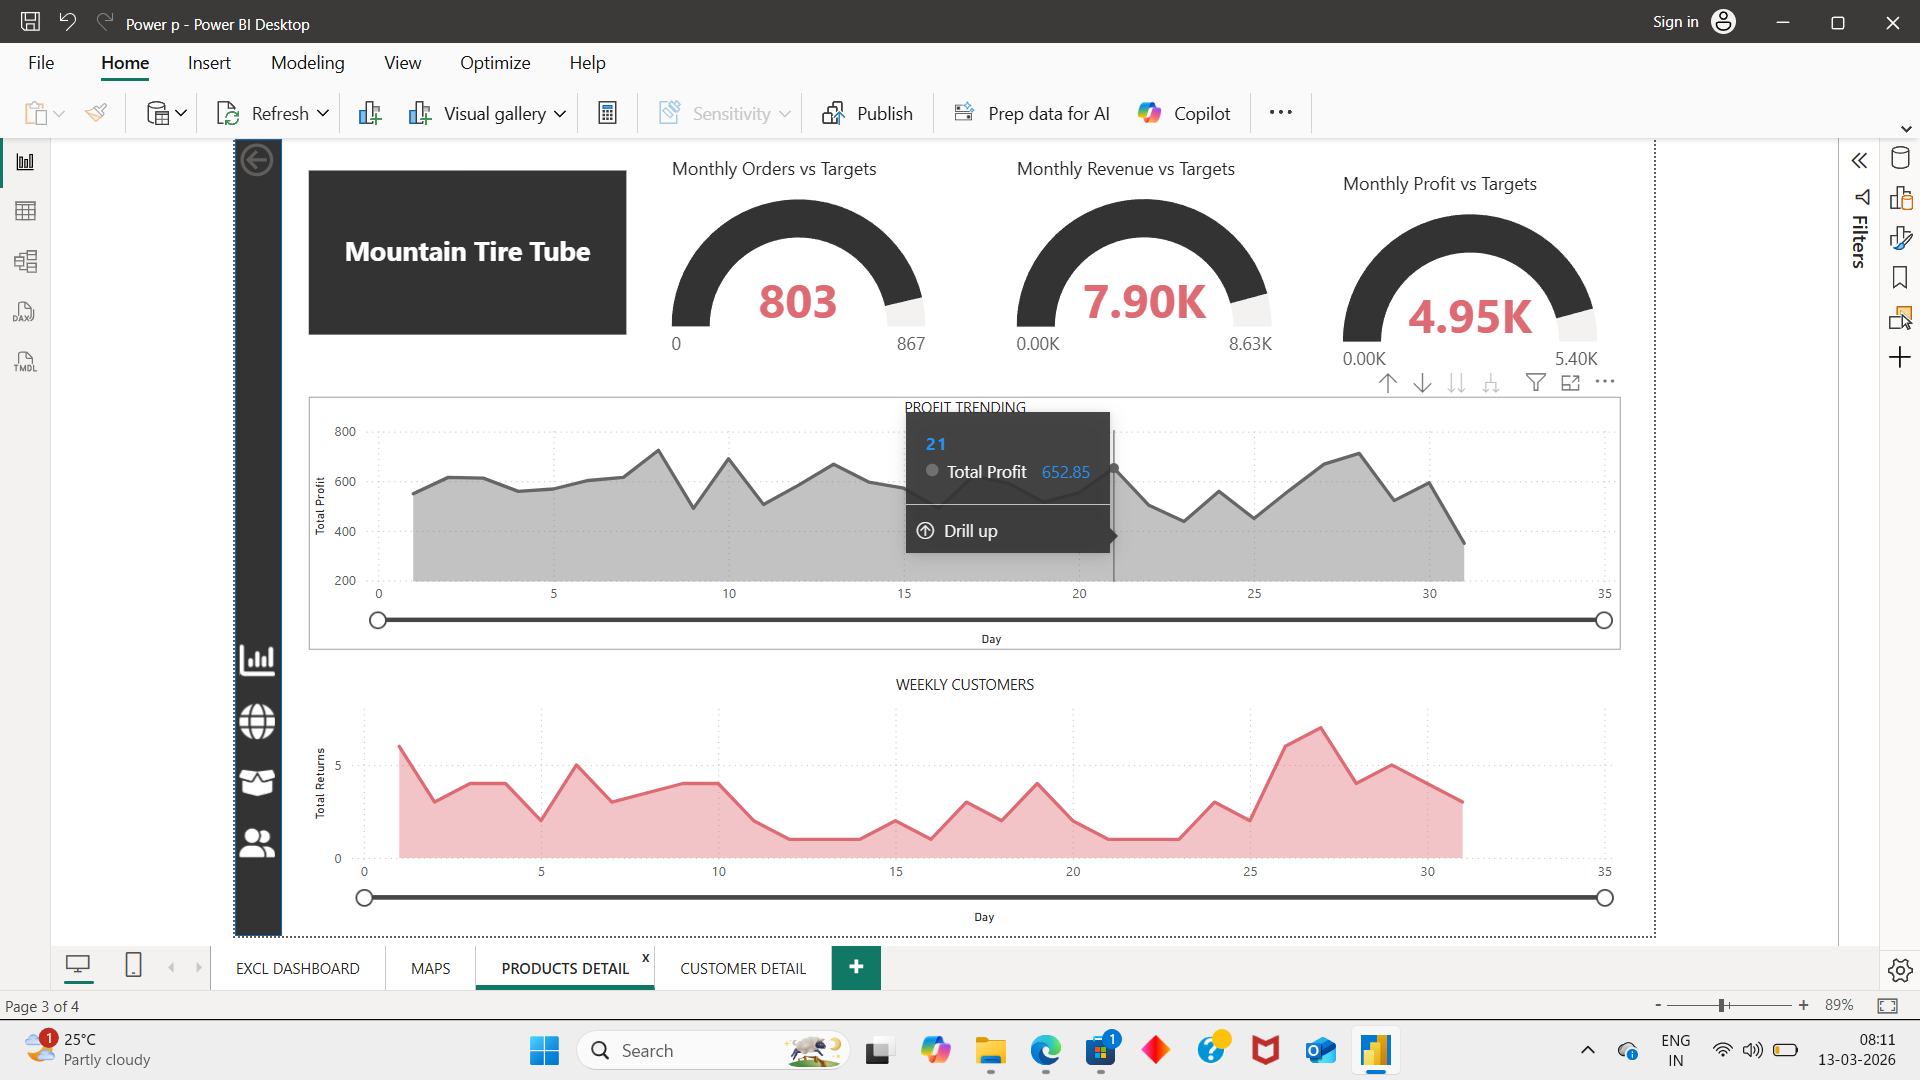

Layout of this report page (visuals, bound fields, positions):
{"tool":"powerbi","page":{"name":"PRODUCTS DETAIL ","canvas":[1280,720],"ordinal":2},"visuals":[{"type":"shape","box":[0,1.2,42.5,718.8],"z":0},{"type":"gauge","title":"Monthly Orders vs Targets","fields":{"MaxValue":["Measure Table.Order Target"],"Y":["Measure Table.Total Orders"]},"box":[388.9,15.8,238.9,204],"z":1000},{"type":"gauge","title":"Monthly Revenue vs Targets","fields":{"MaxValue":["Measure Table.Revenue Target"],"Y":["Measure Table.Total Revenue"]},"box":[699.9,15.8,240.1,204],"z":2000},{"type":"gauge","title":"Monthly Profit vs Targets","fields":{"MaxValue":["Measure Table.Profit Target"],"Y":["Measure Table.Total Profit"]},"box":[994.2,29.3,239.7,204.2],"z":3000},{"type":"areaChart","title":"PROFIT TRENDING","fields":{"Category":["Calendar Lookup.Date.Variation.Date Hierarchy.Year","Calendar Lookup.Date.Variation.Date Hierarchy.Quarter","Calendar Lookup.Date.Variation.Date Hierarchy.Month","Calendar Lookup.Date.Variation.Date Hierarchy.Day"],"Y":["Measure Table.Total Profit"]},"box":[66.5,233.3,1183.5,228.8],"z":4000},{"type":"areaChart","title":"WEEKLY CUSTOMERS","fields":{"Category":["Calendar Lookup.Date.Variation.Date Hierarchy.Year","Calendar Lookup.Date.Variation.Date Hierarchy.Quarter","Calendar Lookup.Date.Variation.Date Hierarchy.Month","Calendar Lookup.Date.Variation.Date Hierarchy.Day"],"Y":["Measure Table.Total Returns"]},"box":[66.5,483.5,1183.5,228.8],"z":5000},{"type":"card","fields":{"Values":["Min(Product Lookup.ProductName)"]},"box":[66.5,29.3,286.3,147.7],"z":6000},{"type":"actionButton","box":[0,0,42.8,39.4],"z":7000},{"type":"actionButton","box":[0,451.2,42.8,40.4],"z":8000},{"type":"actionButton","box":[0,506.3,42.8,40.4],"z":9000},{"type":"actionButton","box":[0,561.3,42.8,40.4],"z":10000},{"type":"actionButton","box":[0,615.1,42.8,40.4],"z":11000}]}

Visuals, with their boxes on the page's 1280x720 design canvas (x1, y1, x2, y2). These are canvas units, not pixel positions in the 1920x1080 screenshot, which may show the page scaled, cropped or inside an application window:
shape: 0/1/42/720
"Monthly Orders vs Targets" gauge: 389/16/628/220
"Monthly Revenue vs Targets" gauge: 700/16/940/220
"Monthly Profit vs Targets" gauge: 994/29/1234/234
"PROFIT TRENDING" areaChart: 66/233/1250/462
"WEEKLY CUSTOMERS" areaChart: 66/484/1250/712
card - Min(Product Lookup.ProductName): 66/29/353/177
actionButton: 0/0/43/39
actionButton: 0/451/43/492
actionButton: 0/506/43/547
actionButton: 0/561/43/602
actionButton: 0/615/43/656
